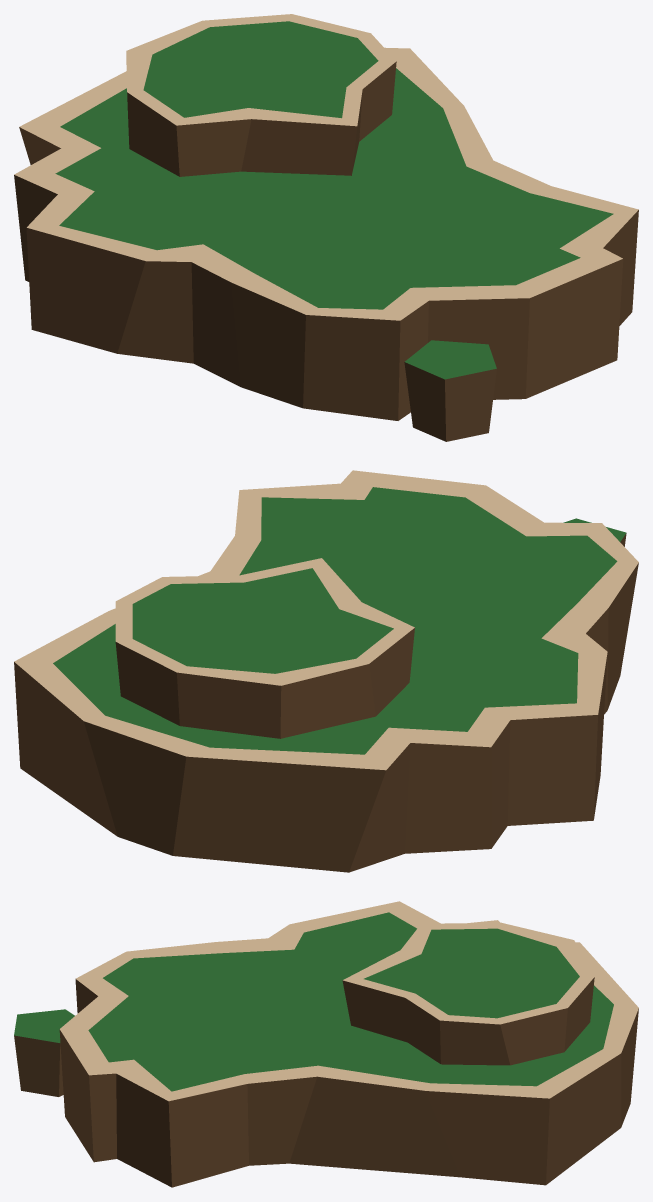
The model's file is nature-rock-terrasse.glb.
The picture shows the model from 3 angles, top to bottom: view 1: azimuth 30°, elevation 25°; view 2: azimuth 150°, elevation 25°; view 3: azimuth 270°, elevation 25°; orthographic projection. The views are drawn at different scales.
Visible parts, largest first — view 1: rock-terrasse; view 2: rock-terrasse; view 3: rock-terrasse.
Part boxes in pixels (x1,y1,x2,y2): rock-terrasse: (14, 14, 638, 441); rock-terrasse: (14, 470, 638, 872); rock-terrasse: (14, 901, 638, 1187).
Size of the model in its own units: 6.04 by 1.88 by 7.97.
